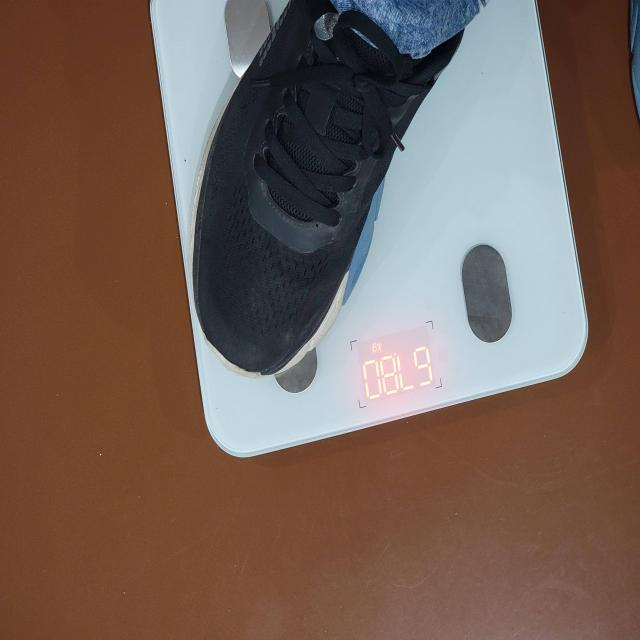ws: (150, 0, 596, 460)
